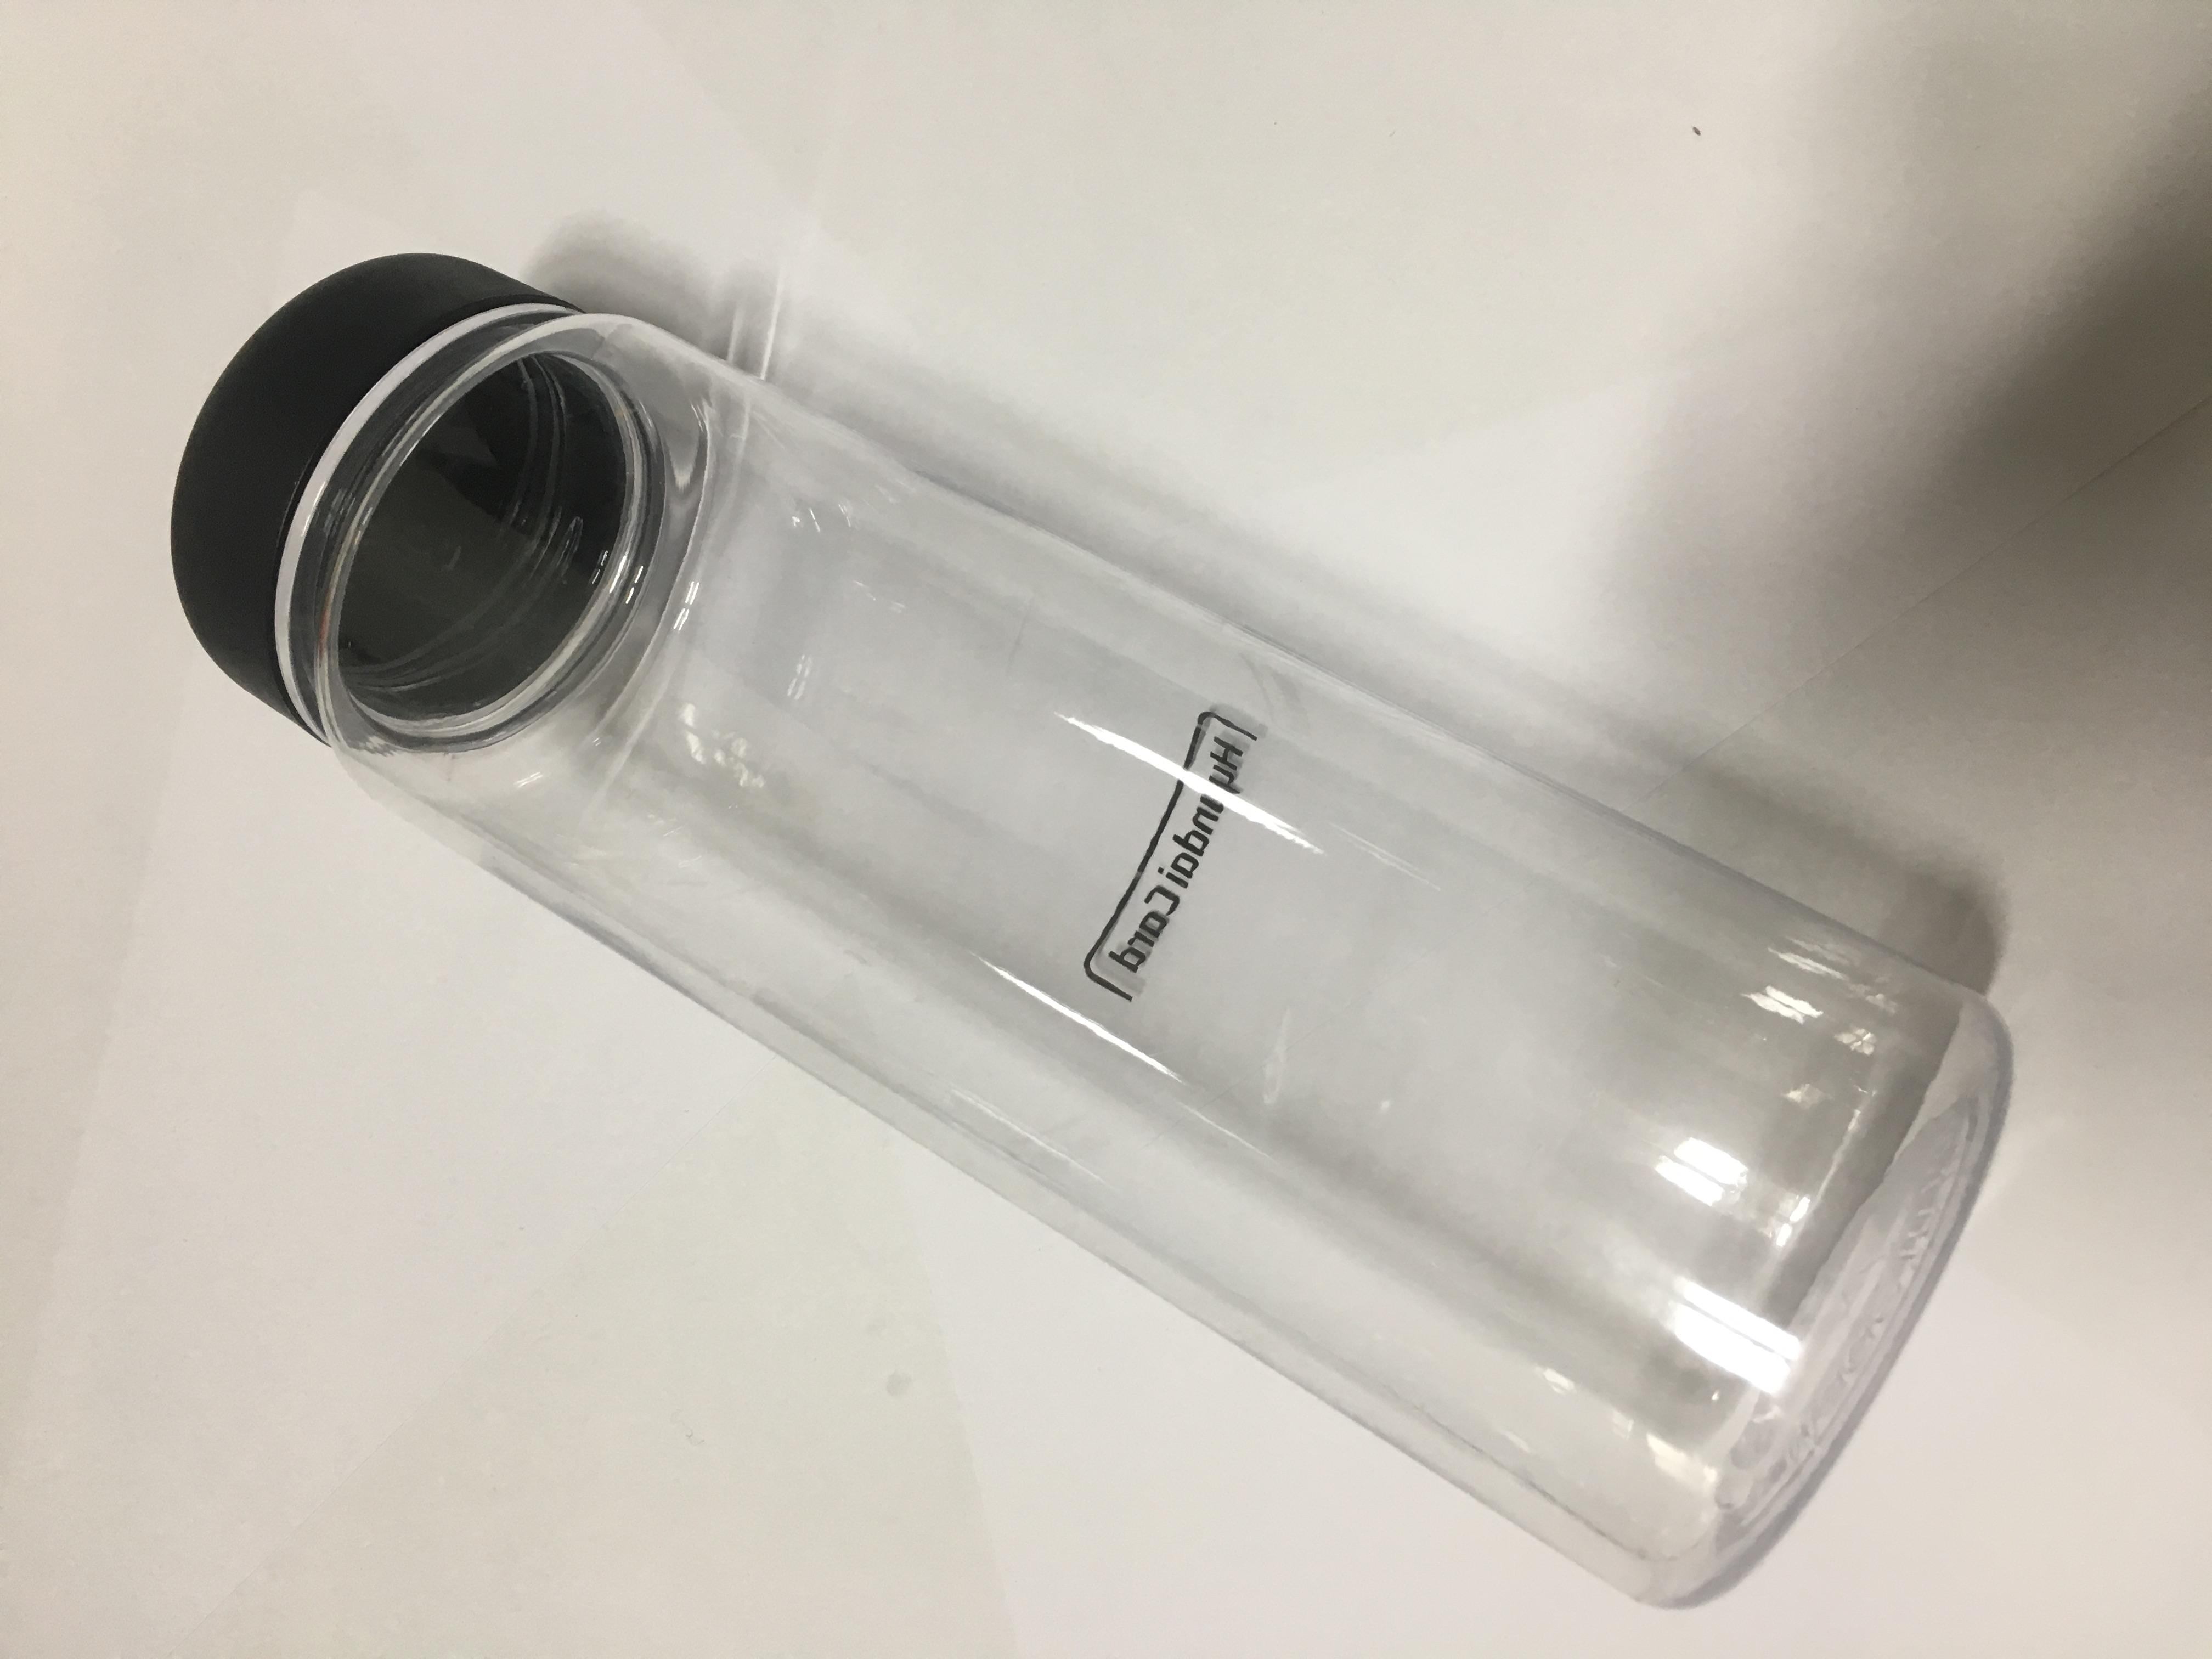bottle: (911, 608, 1021, 727)
